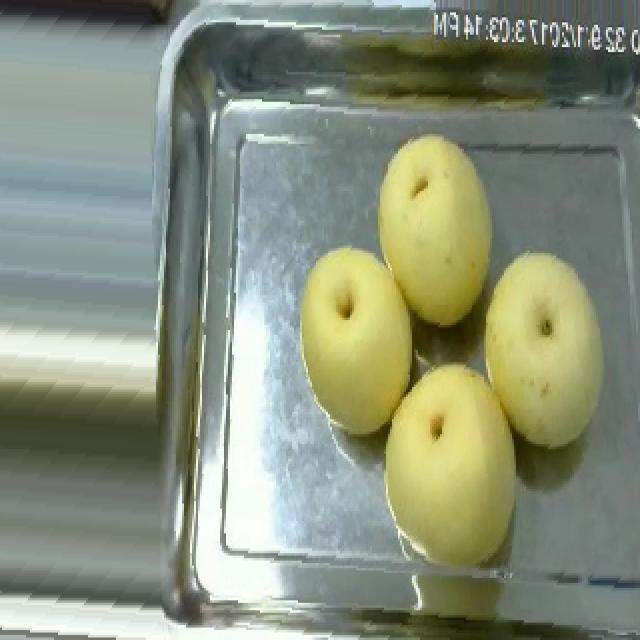Fruit: (374, 354, 530, 576), (470, 240, 616, 457), (366, 124, 504, 332), (290, 236, 424, 439)
